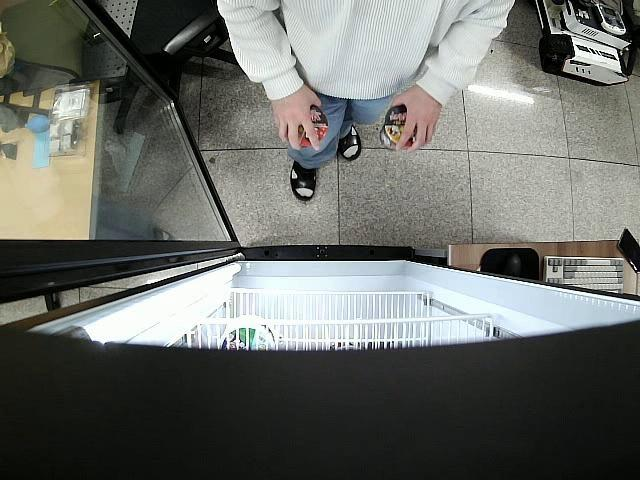08_buldak_S: (286, 105, 328, 148), (381, 104, 416, 152)
